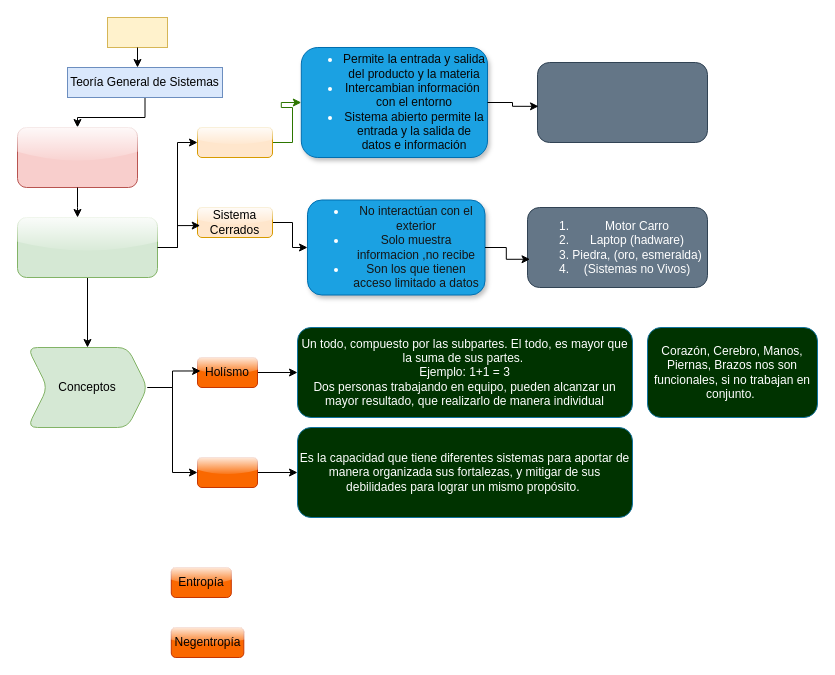
The diagram is 835 pixels wide and 675 high, and some of its shapes have lost their labels. Here are the shapes that lost their labels. From the top down, the centre of each, then its label:
At [137,32]: "TGS".
At [622,102]: "Medio ambiente Cuerpo humano Sistema Solar (Sistemas Vivos) Laptop (software IA)".
At [77,157]: "Sistema: input output process".
At [234,142]: "Sistema Abiertos".
At [87,247]: "Permite representar de manera teórica todo lo que existe en el entorno".
At [227,472]: "Sinérgia".
